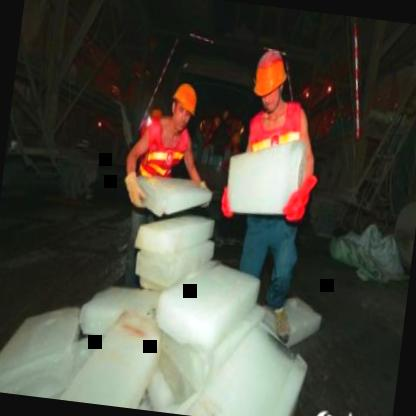helmet: (247, 43, 294, 113), (165, 77, 201, 136)
